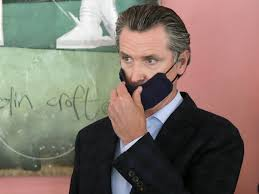with_incorrect_mask: (120, 37, 167, 96)
